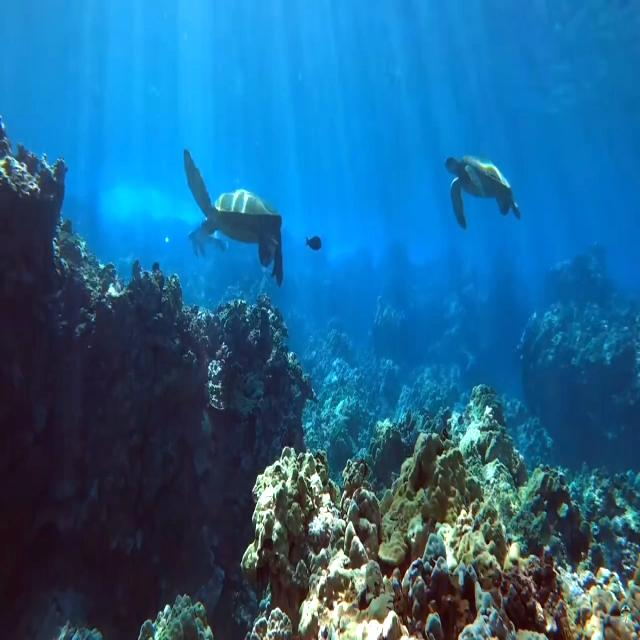Sea turtle: (183, 142, 286, 288), (443, 149, 521, 234)
